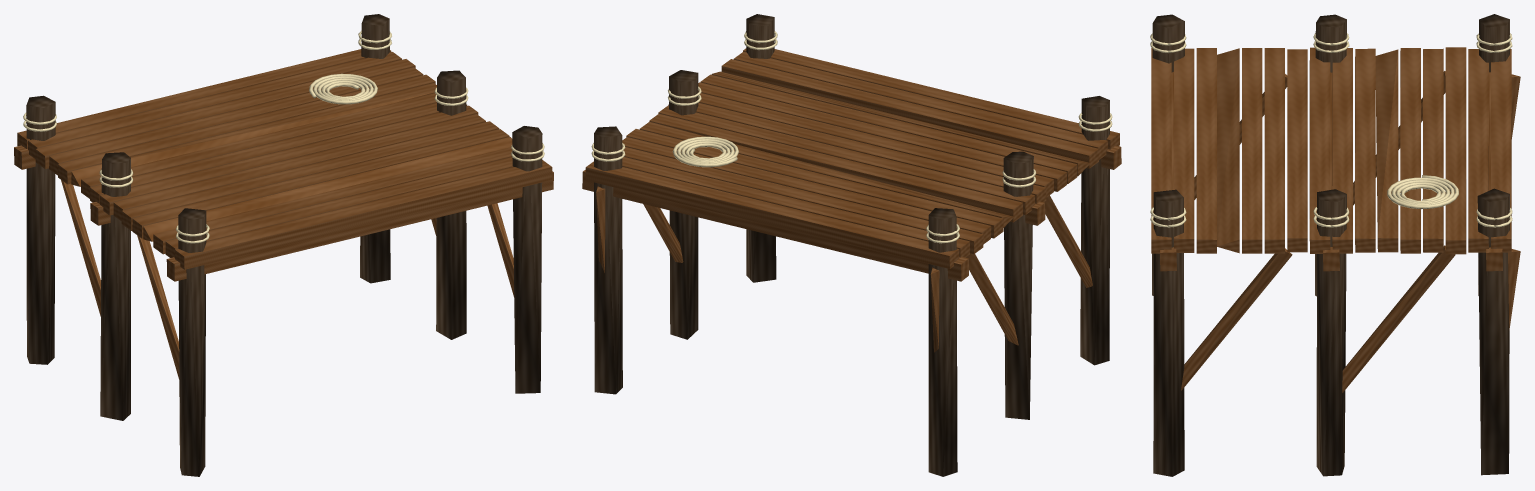
The model's file is dock_landing.glb.
3 views of the same model, side by side, from view 1: azimuth 30°, elevation 25°; view 2: azimuth 150°, elevation 25°; view 3: azimuth 270°, elevation 25° (orthographic). The views are drawn at different scales.
Visible parts, largest first — view 1: dock_landing_Deck, dock_landing_Joinery, dock_landing_Detail; view 2: dock_landing_Deck, dock_landing_Joinery, dock_landing_Detail; view 3: dock_landing_Deck, dock_landing_Joinery, dock_landing_Detail.
Part boxes in pixels (bbox=[...]): dock_landing_Deck: bbox=[17, 49, 552, 269]; dock_landing_Joinery: bbox=[14, 14, 553, 476]; dock_landing_Detail: bbox=[23, 30, 544, 243]; dock_landing_Deck: bbox=[585, 48, 1119, 268]; dock_landing_Joinery: bbox=[582, 14, 1121, 476]; dock_landing_Detail: bbox=[591, 31, 1112, 243]; dock_landing_Deck: bbox=[1151, 47, 1511, 254]; dock_landing_Joinery: bbox=[1152, 14, 1520, 476]; dock_landing_Detail: bbox=[1150, 33, 1512, 227].
Size of the model in its own units: 5.16 by 3.35 by 4.09.
1 material, 1 textured.
